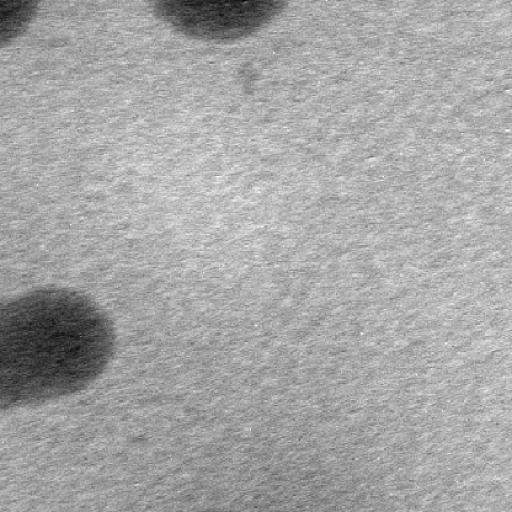Nanoparticles: (2, 288, 115, 413), (151, 0, 291, 42), (0, 0, 39, 48)
